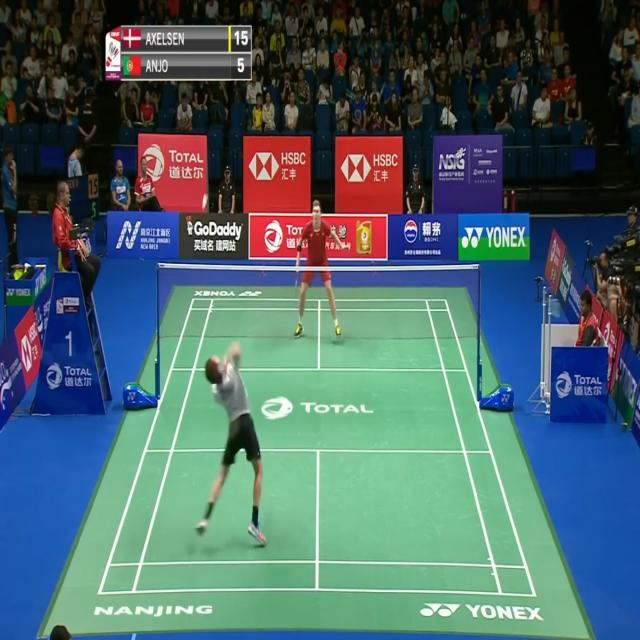Player1: (189, 341, 270, 551)
Player2: (290, 196, 348, 354)
